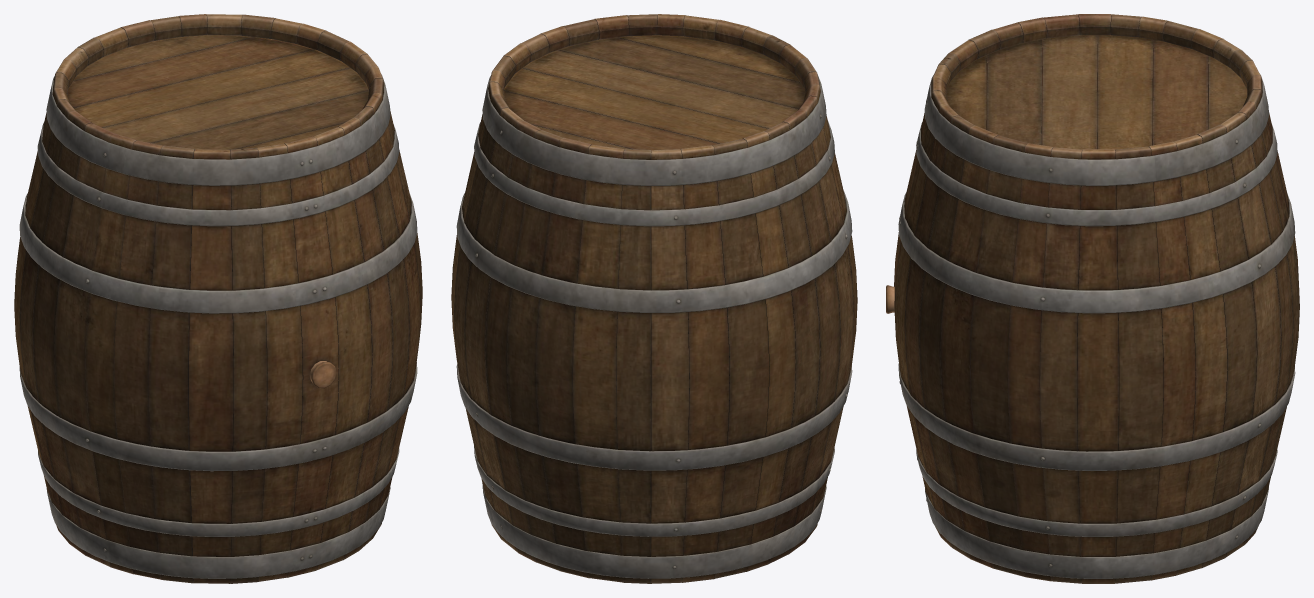
Rendered from barrel_3.glb.
3 renders of one model, left to right at view 1: azimuth 30°, elevation 25°; view 2: azimuth 150°, elevation 25°; view 3: azimuth 270°, elevation 25°, orthographic.
Parts seen in each view (by area): view 1: wine_barrel_01, wine_barrel_01_Lid, wine_barrel_01_bung; view 2: wine_barrel_01, wine_barrel_01_Lid; view 3: wine_barrel_01, wine_barrel_01_Lid.
Part boxes in pixels (x1=…): wine_barrel_01: x1=14, y1=14, x2=422, y2=583; wine_barrel_01_Lid: x1=67, y1=35, x2=368, y2=149; wine_barrel_01_bung: x1=310, y1=361, x2=336, y2=388; wine_barrel_01: x1=451, y1=14, x2=857, y2=583; wine_barrel_01_Lid: x1=503, y1=35, x2=805, y2=152; wine_barrel_01: x1=894, y1=14, x2=1299, y2=583; wine_barrel_01_Lid: x1=946, y1=35, x2=1247, y2=149.
Size of the model in its own units: 0.7419 by 0.8713 by 0.756.
Materials: 1 (1 with a texture image).
